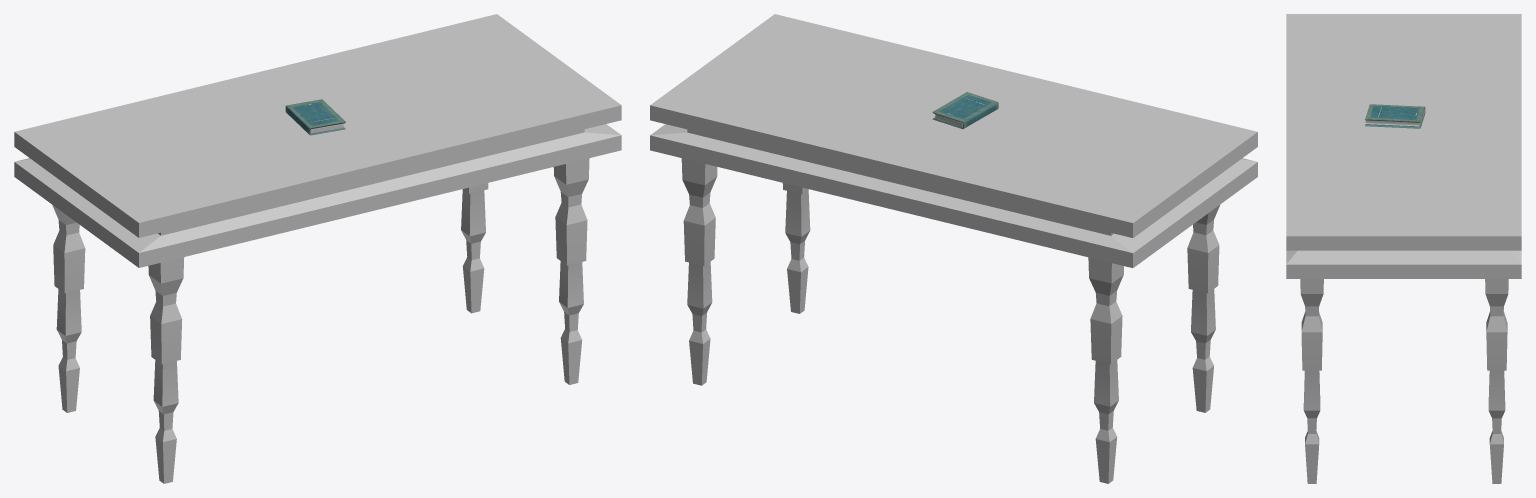
File: Guest Desk.fbx
3 renders of one model, left to right at view 1: azimuth 30°, elevation 25°; view 2: azimuth 150°, elevation 25°; view 3: azimuth 270°, elevation 25°, orthographic. The views are drawn at different scales.
Parts seen in each view (by area): view 1: polySurface1334, polySurface1342, polySurface1343, polySurface1341, polySurface1344, pCube1273; view 2: polySurface1334, polySurface1344, polySurface1341, polySurface1342, polySurface1343, pCube1273; view 3: polySurface1334, polySurface1344, polySurface1343, pCube1273.
Part boxes in pixels (x1,y1,x2,y2): polySurface1334: (14,14,621,267); polySurface1342: (148,257,184,483); polySurface1343: (553,158,589,384); polySurface1341: (52,205,85,412); polySurface1344: (461,183,488,313); pCube1273: (285,99,345,135); polySurface1334: (650,14,1257,267); polySurface1344: (681,158,717,385); polySurface1341: (1088,257,1123,483); polySurface1342: (1187,205,1219,412); polySurface1343: (782,183,810,313); pCube1273: (932,92,998,129); polySurface1334: (1286,14,1521,278); polySurface1344: (1485,279,1508,483); polySurface1343: (1300,279,1323,483); pCube1273: (1365,104,1425,128).
Bounding box in the file's own units: 253 × 144 × 113.
